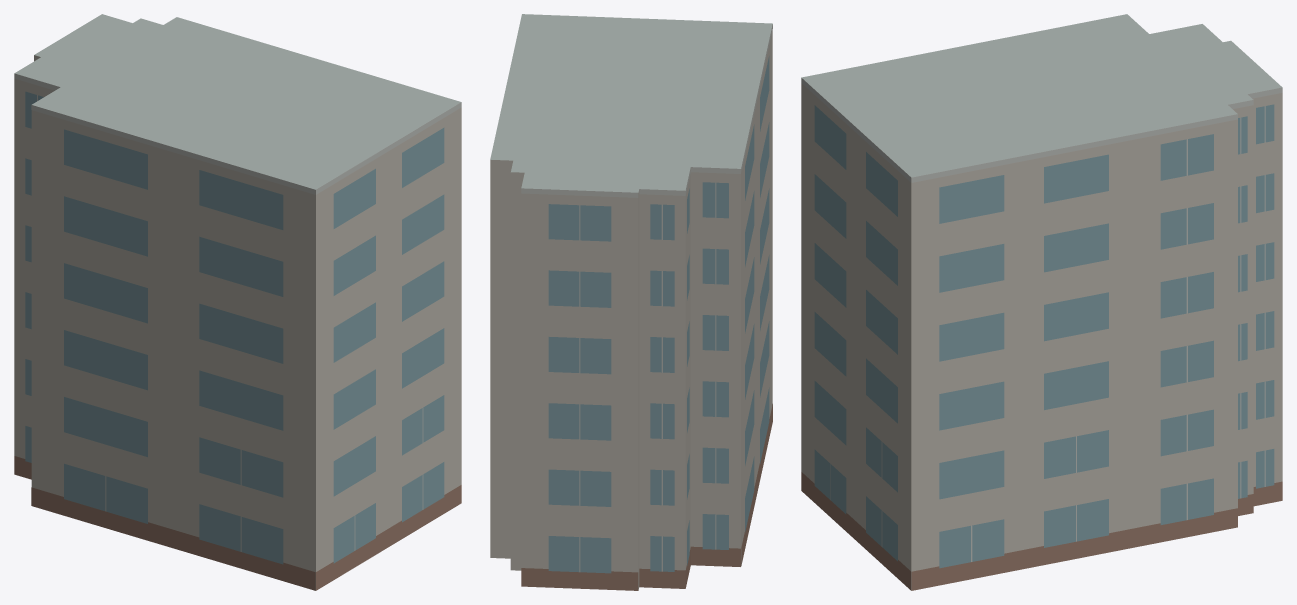
The model's file is survey-upis-32637573.glb.
3 renders of one model, left to right at view 1: azimuth 30°, elevation 25°; view 2: azimuth 150°, elevation 25°; view 3: azimuth 270°, elevation 25°, orthographic. The views are drawn at different scales.
Parts seen in each view (by area): view 1: survey-upis-32637573.tmp; view 2: survey-upis-32637573.tmp; view 3: survey-upis-32637573.tmp.
Part boxes in pixels (x1=…): survey-upis-32637573.tmp: x1=14, y1=14, x2=461, y2=590; survey-upis-32637573.tmp: x1=490, y1=14, x2=772, y2=590; survey-upis-32637573.tmp: x1=801, y1=14, x2=1282, y2=590.
Size of the model in its own units: 16.06 by 18.9 by 19.96.
